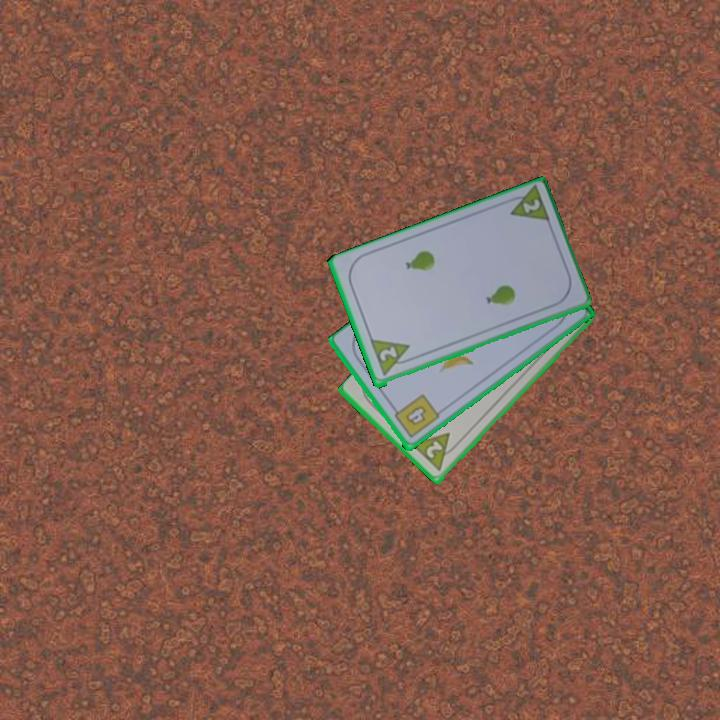2p: (422, 437, 446, 462), (376, 343, 400, 365), (519, 196, 543, 217)
4b: (388, 391, 442, 441)
